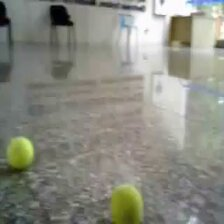tennis: (108, 183, 145, 224), (6, 134, 35, 171)
